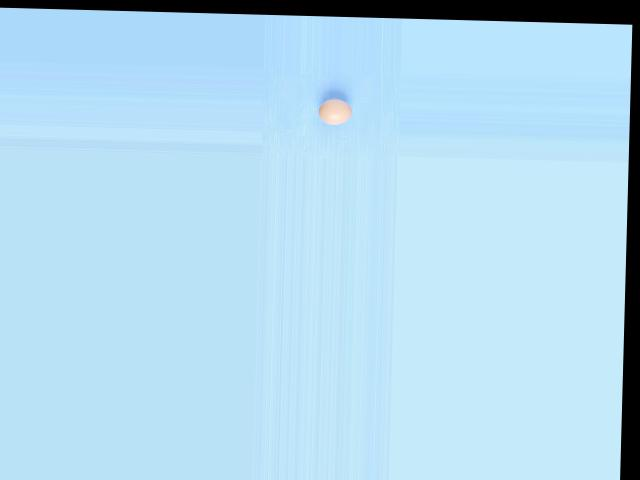egg: (318, 97, 351, 125)
